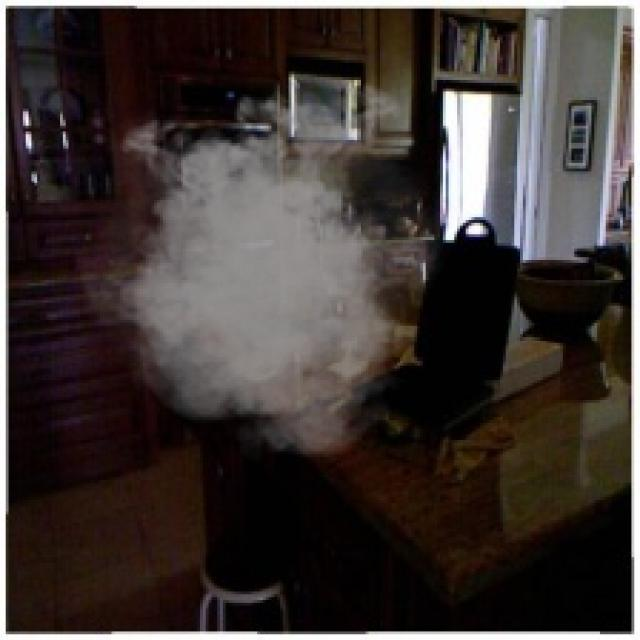Smoke: (63, 71, 460, 463)
